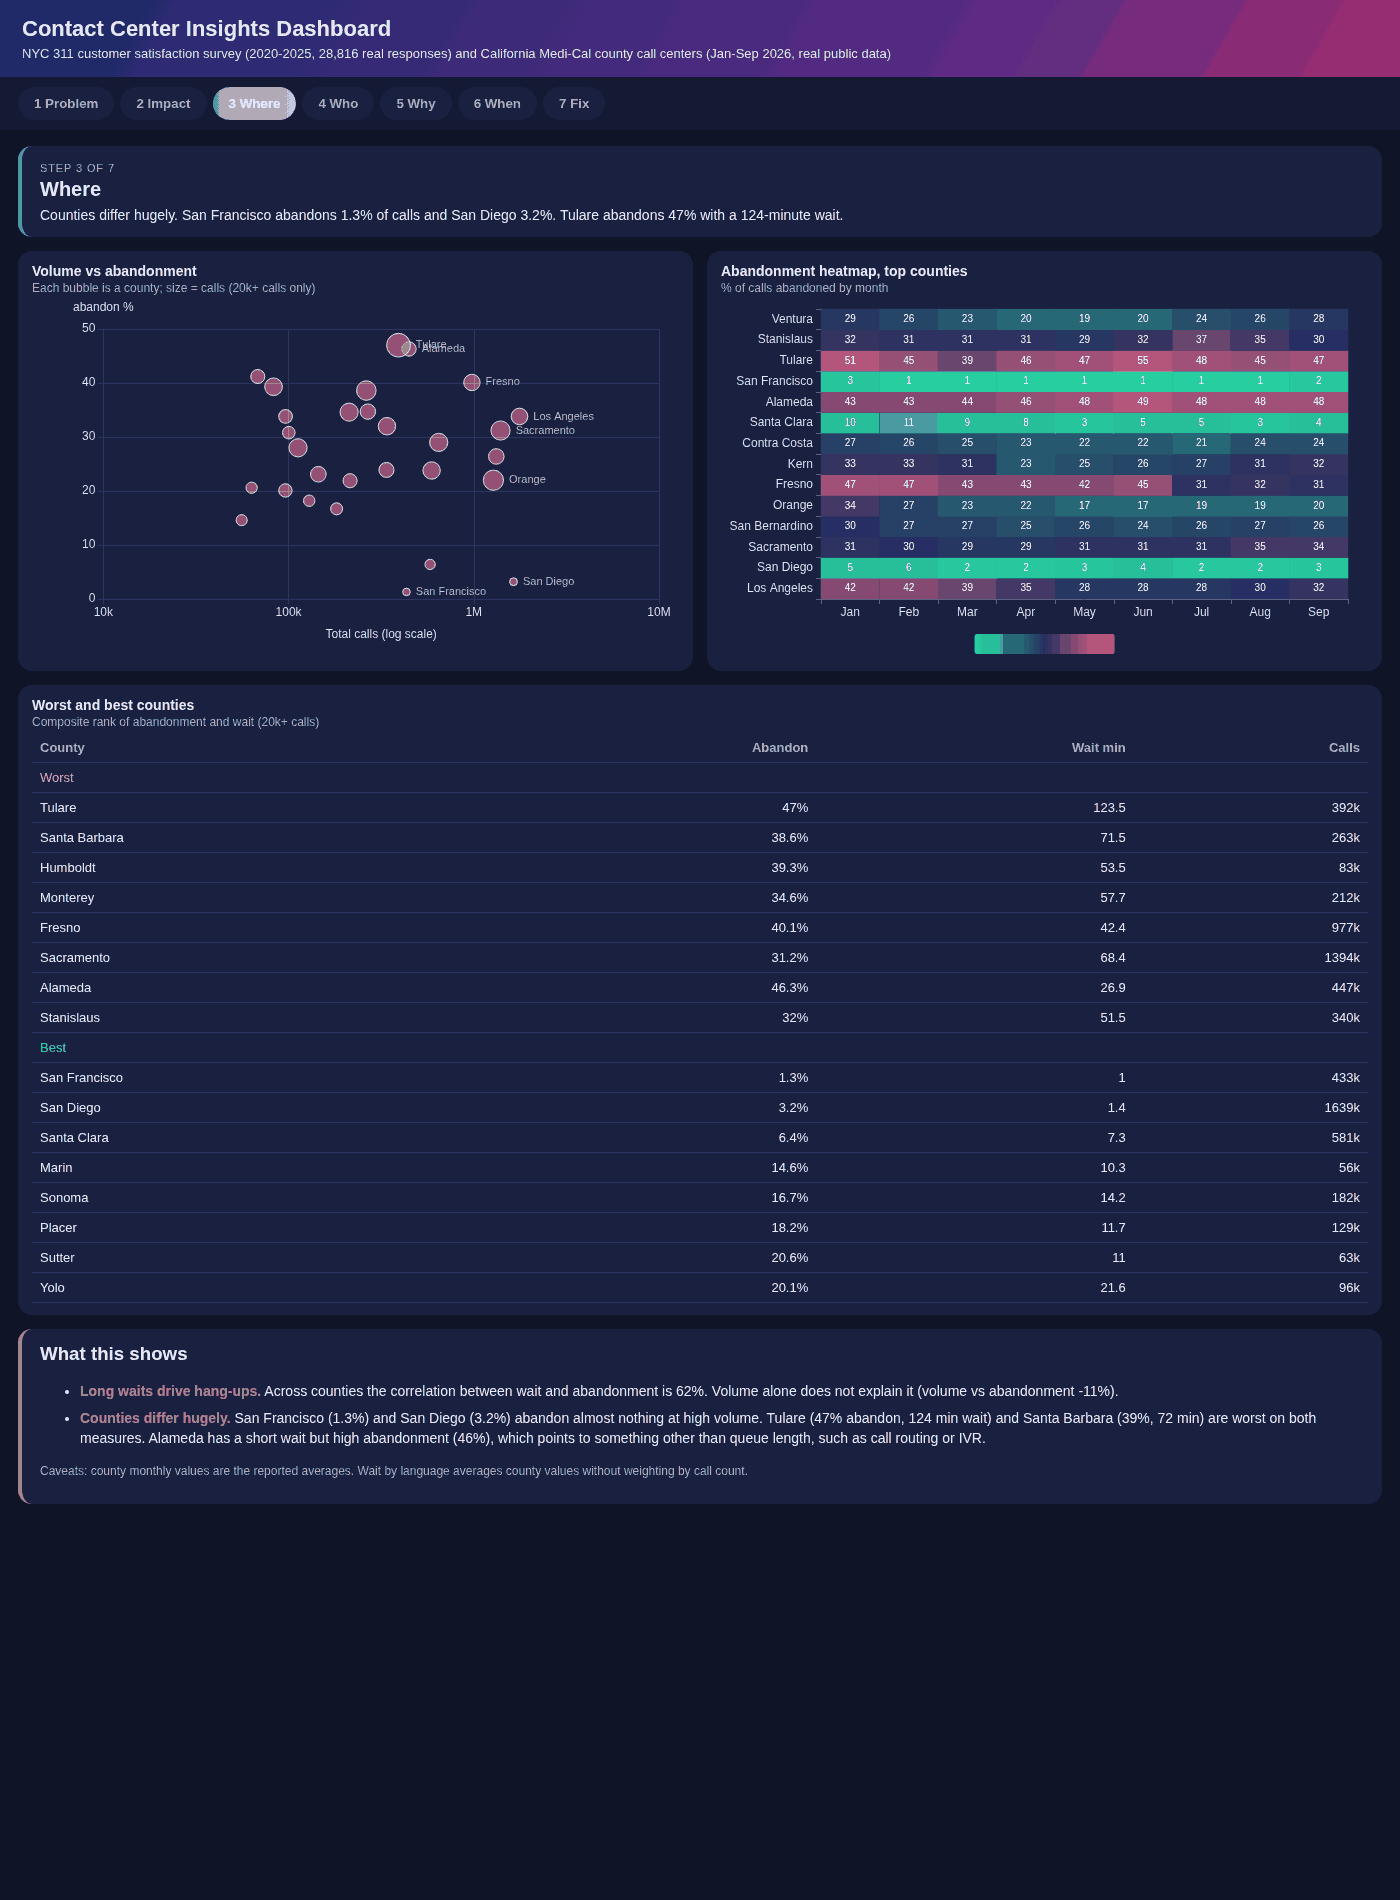

The dashboard page shown, as its layout file describes it:
{"tool":"powerbi","page":{"name":"3 Where","canvas":[1280,720],"ordinal":2},"visuals":[{"type":"card","fields":{"Values":["Survey.Text S3"]},"box":[20,10,1240,80],"z":0},{"type":"clusteredBarChart","fields":{"Category":["MediCal.County"],"Y":["MediCal.Avg Abandon %"]},"box":[20,100,620,300],"z":1000},{"type":"clusteredBarChart","fields":{"Category":["MediCal.County"],"Y":["MediCal.Avg Wait Min"]},"box":[660,100,600,300],"z":2000},{"type":"clusteredBarChart","fields":{"Category":["MediCal.County"],"Y":["MediCal.Total Calls Sum"]},"box":[20,420,620,290],"z":3000},{"type":"slicer","fields":{"Values":["MediCal.Period"]},"box":[660,420,600,290],"z":4000}]}

Visuals, with their boxes on the page's 1280x720 design canvas (x1, y1, x2, y2). These are canvas units, not pixel positions in the 1400x1900 screenshot, which may show the page scaled, cropped or inside an application window:
card - Survey.Text S3: region(20, 10, 1260, 90)
clusteredBarChart - MediCal.County x MediCal.Avg Abandon %: region(20, 100, 640, 400)
clusteredBarChart - MediCal.County x MediCal.Avg Wait Min: region(660, 100, 1260, 400)
clusteredBarChart - MediCal.County x MediCal.Total Calls Sum: region(20, 420, 640, 710)
slicer - MediCal.Period: region(660, 420, 1260, 710)
